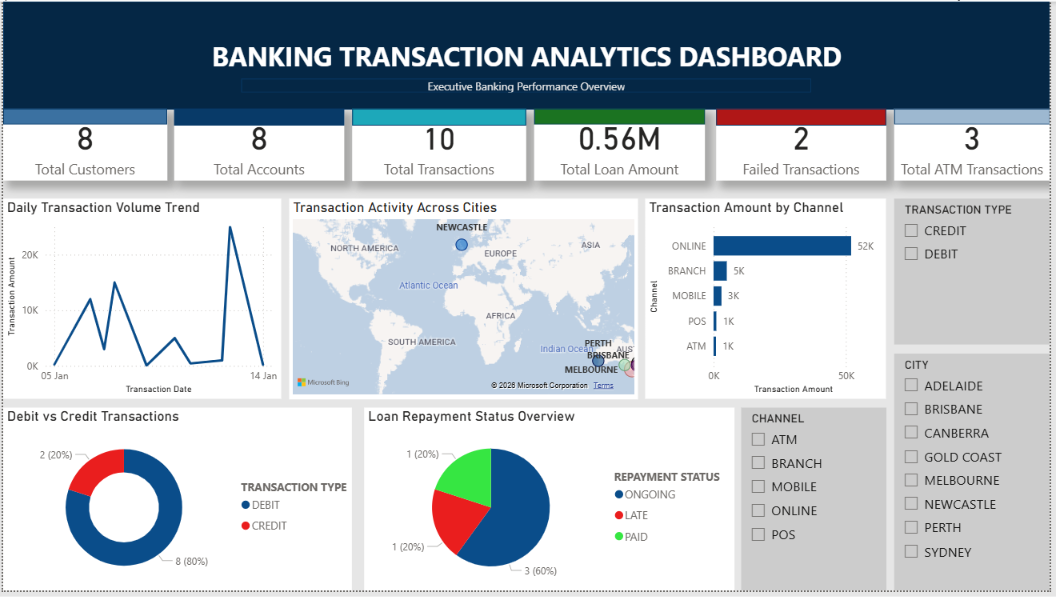

This screenshot's page, from the dashboard's own definition file:
{"tool":"powerbi","page":{"name":"Page 1","canvas":[1280,720],"ordinal":0},"visuals":[{"type":"card","fields":{"Values":["CUSTOMERS.Total Customers"]},"box":[0,130.8,200.5,88],"z":0},{"type":"card","fields":{"Values":["ACCOUNTS.Total Accounts"]},"box":[209.1,130.8,207.9,88],"z":1000},{"type":"card","fields":{"Values":["CountNonNull(TRANSACTIONS.TRANSACTION_ID)"]},"box":[426.8,132.1,212.8,86.8],"z":2000},{"type":"card","fields":{"Values":["Sum(LOANS.LOAN_AMOUNT)"]},"box":[649.3,130.8,209.1,88],"z":3000},{"type":"card","fields":{"Values":["TRANSACTIONS.Failed Transactions"]},"box":[871.9,130.8,207.9,88],"z":4000},{"type":"card","fields":{"Values":["TRANSACTIONS.Total ATM Transactions"]},"box":[1089.5,130.8,190.8,88],"z":5000},{"type":"lineChart","title":"Daily Transaction Volume Trend","fields":{"Y":["Sum(TRANSACTIONS.AMOUNT)"],"Category":["TRANSACTIONS.TRANSACTION_DATE"]},"box":[0,240.9,339.9,244.6],"z":6000},{"type":"donutChart","title":"Debit vs Credit Transactions","fields":{"Category":["TRANSACTIONS.TRANSACTION_TYPE"],"Y":["CountNonNull(TRANSACTIONS.TRANSACTION_ID)"]},"box":[0,496.5,426.8,223.8],"z":7000},{"type":"barChart","title":"Transaction Amount by Channel","fields":{"Category":["TRANSACTIONS.CHANNEL"],"Y":["Sum(TRANSACTIONS.AMOUNT)"]},"box":[785.1,240.9,294.7,244.6],"z":8000},{"type":"pieChart","title":"Loan Repayment Status Overview","fields":{"Category":["LOANS.REPAYMENT_STATUS"],"Y":["CountNonNull(LOANS.LOAN_ID)"]},"box":[441.4,496.5,452.4,223.8],"z":9000},{"type":"map","title":"Transaction Activity Across Cities","fields":{"Category":["CUSTOMERS.CITY"],"Size":["CountNonNull(TRANSACTIONS.TRANSACTION_ID)"]},"box":[349.7,240.9,426.8,244.6],"z":10000},{"type":"slicer","fields":{"Values":["TRANSACTIONS.TRANSACTION_TYPE"]},"box":[1089.5,240.9,190.8,178.5],"z":11000},{"type":"slicer","fields":{"Values":["CUSTOMERS.CITY"]},"box":[1089.5,430.4,190.8,289.8],"z":12000},{"type":"slicer","fields":{"Values":["TRANSACTIONS.CHANNEL"]},"box":[902.5,496.5,177.3,223.8],"z":13000},{"type":"shape","box":[0,0,1280.3,132.1],"z":14000},{"type":"shape","box":[291,94.2,697,17.1],"z":15000},{"type":"shape","box":[0,130.8,200.5,19.6],"z":16000},{"type":"shape","box":[209.1,130.8,207.9,20.8],"z":17000},{"type":"shape","box":[426.8,130.8,212.8,20.8],"z":18000},{"type":"shape","box":[649.3,130.8,209.1,19.6],"z":19000},{"type":"shape","box":[871.9,130.8,207.9,20.8],"z":20000},{"type":"shape","box":[1089.5,130.8,190.8,19.6],"z":21000}]}

Visuals, with their boxes in screenshot pixels (x1, y1, x2, y2), scaled from the page's 1280x720 canvas onto the 1056x597 screenshot:
card - CUSTOMERS.Total Customers: bbox=[0, 108, 165, 181]
card - ACCOUNTS.Total Accounts: bbox=[173, 108, 344, 181]
card - CountNonNull(TRANSACTIONS.TRANSACTION_ID): bbox=[352, 110, 528, 182]
card - Sum(LOANS.LOAN_AMOUNT): bbox=[536, 108, 708, 181]
card - TRANSACTIONS.Failed Transactions: bbox=[719, 108, 891, 181]
card - TRANSACTIONS.Total ATM Transactions: bbox=[899, 108, 1055, 181]
"Daily Transaction Volume Trend" lineChart: bbox=[0, 200, 280, 403]
"Debit vs Credit Transactions" donutChart: bbox=[0, 412, 352, 596]
"Transaction Amount by Channel" barChart: bbox=[648, 200, 891, 403]
"Loan Repayment Status Overview" pieChart: bbox=[364, 412, 737, 596]
"Transaction Activity Across Cities" map: bbox=[289, 200, 641, 403]
slicer - TRANSACTIONS.TRANSACTION_TYPE: bbox=[899, 200, 1055, 348]
slicer - CUSTOMERS.CITY: bbox=[899, 357, 1055, 596]
slicer - TRANSACTIONS.CHANNEL: bbox=[745, 412, 891, 596]
shape: bbox=[0, 0, 1055, 110]
shape: bbox=[240, 78, 815, 92]
shape: bbox=[0, 108, 165, 125]
shape: bbox=[173, 108, 344, 126]
shape: bbox=[352, 108, 528, 126]
shape: bbox=[536, 108, 708, 125]
shape: bbox=[719, 108, 891, 126]
shape: bbox=[899, 108, 1055, 125]
